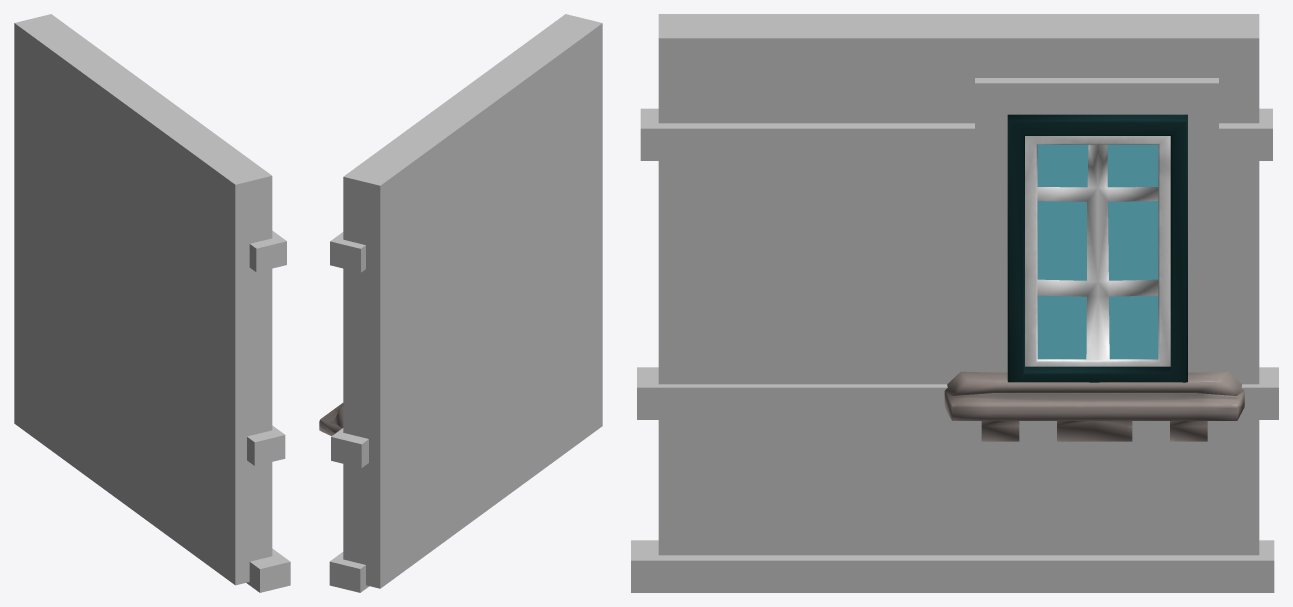
Rendered from Building_Wall_04.fbx.
3 views of the same model, side by side, from view 1: azimuth 30°, elevation 25°; view 2: azimuth 150°, elevation 25°; view 3: azimuth 270°, elevation 25° (orthographic). The views are drawn at different scales.
Visible parts, largest first — view 1: BuildingWal4; view 2: BuildingWal4; view 3: BuildingWal4.
Part boxes in pixels (<box>): BuildingWal4: <box>14,14,290,592</box>; BuildingWal4: <box>319,14,602,592</box>; BuildingWal4: <box>631,14,1278,592</box>.
Size of the model in its own units: 450 by 2522 by 2697.
